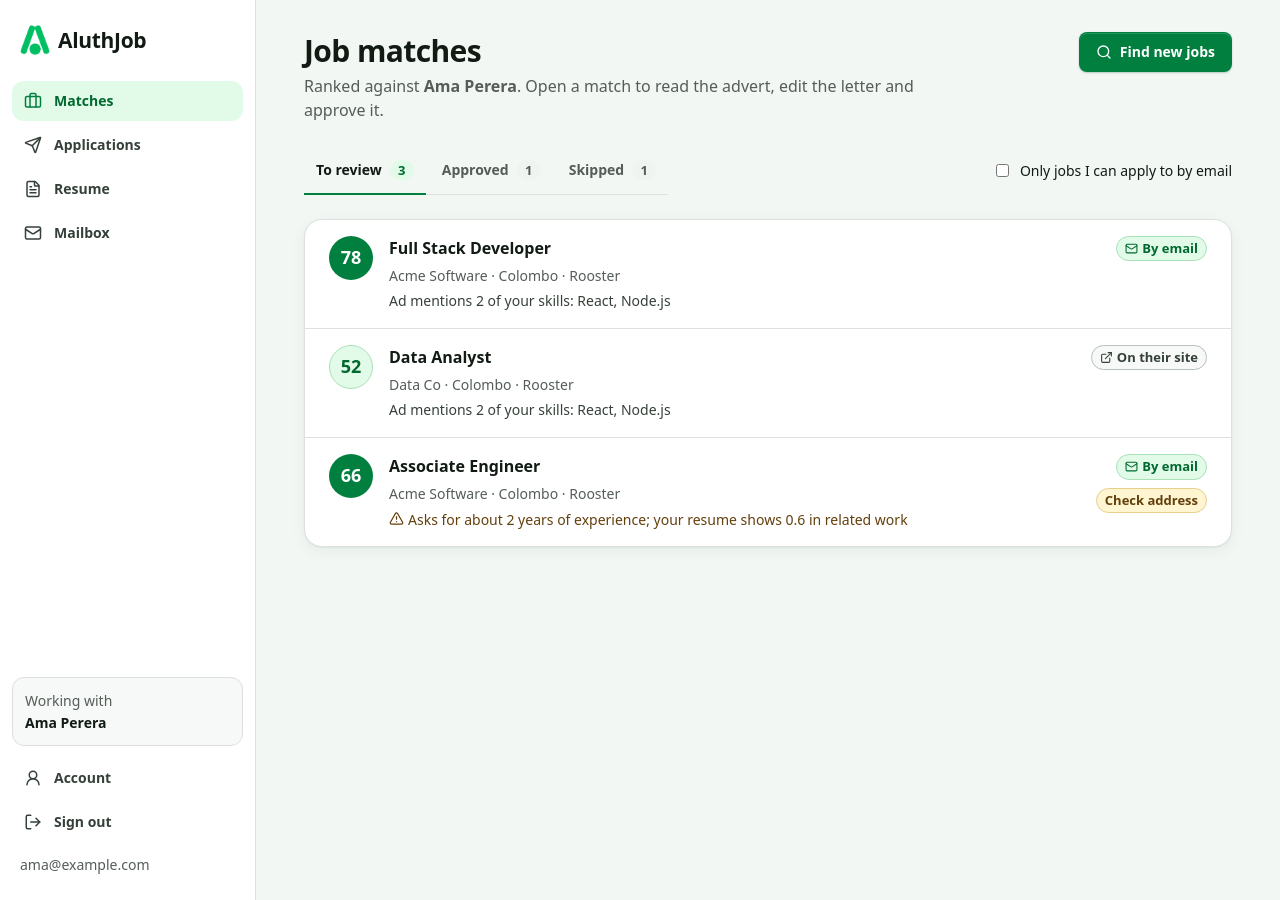
Test: matches list › marks an approved match Sent once its application has gone out
Click the tab "Approved 1": (491, 171) [430,147,553,195]
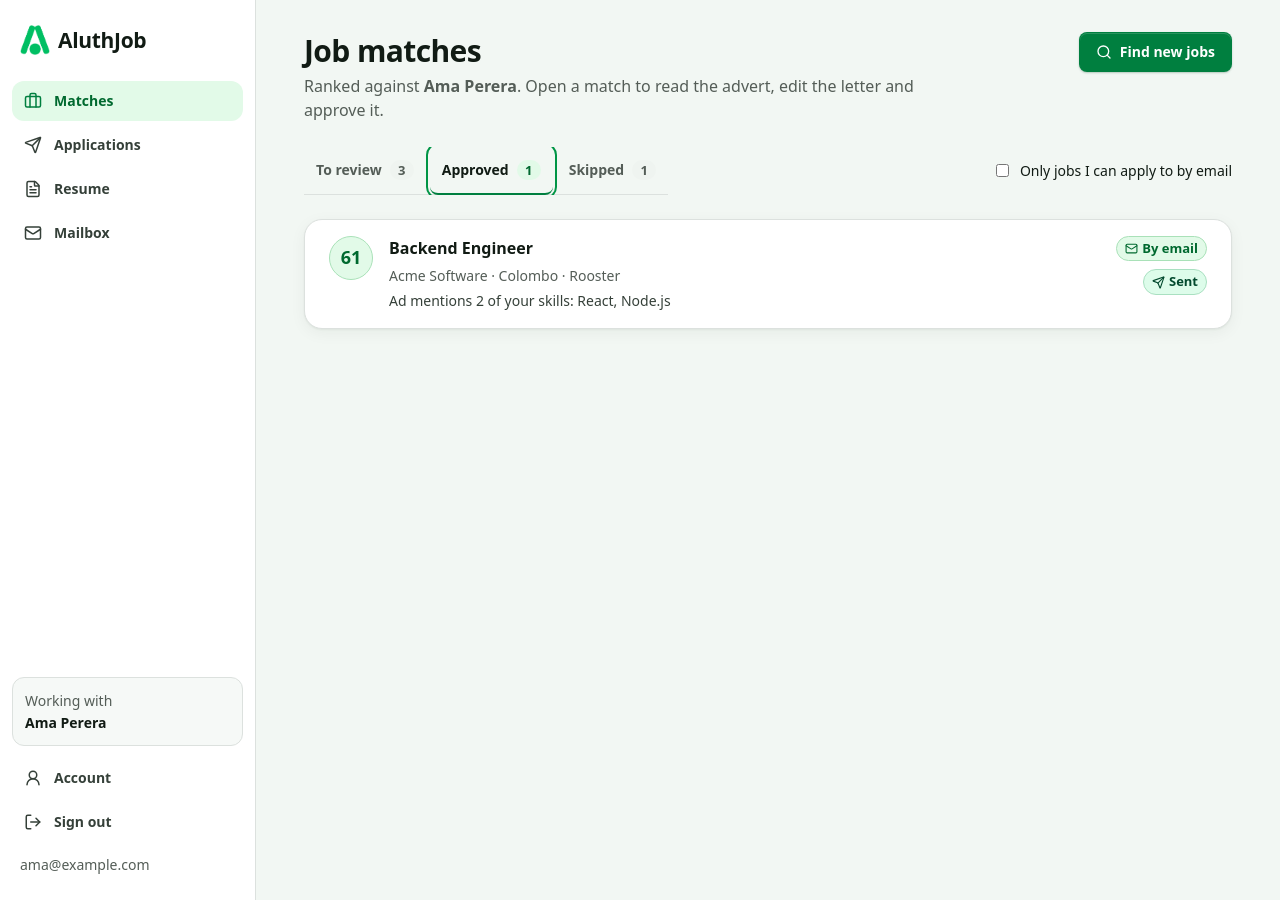
expect the link "Backend Engineer" does not show "Approved": met, box [305,220,1231,328]
expect the link "Backend Engineer" shows "Sent": met, box [305,220,1231,328]
